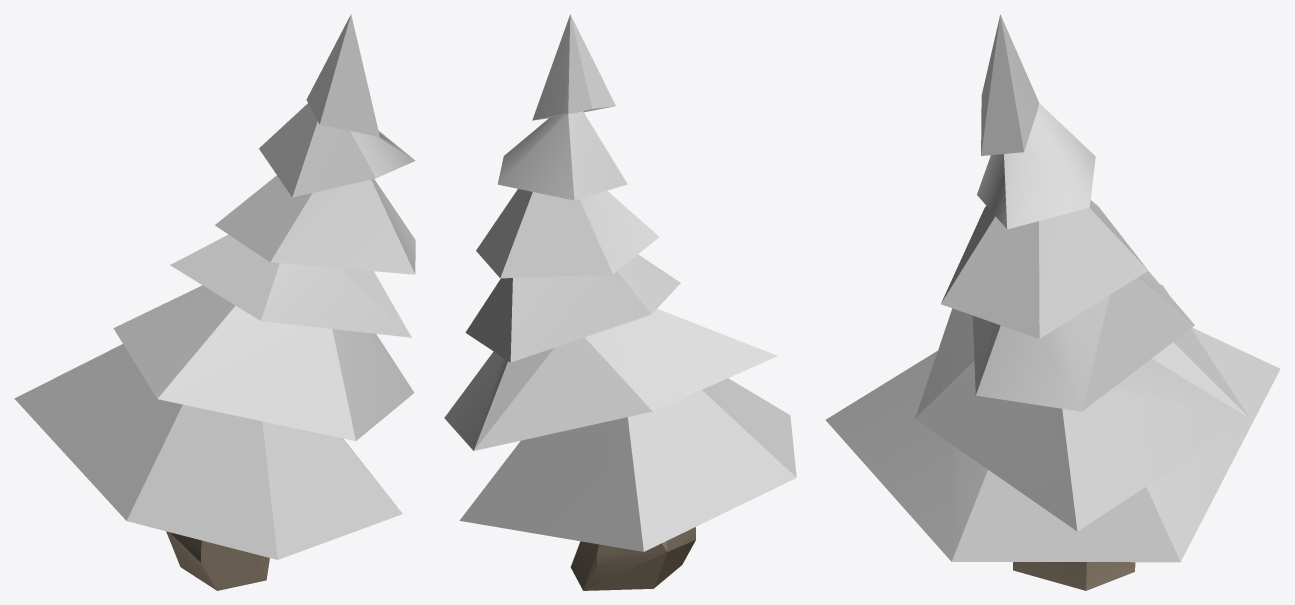
File: Vegetation_Tree_Pine_Snow_03.fbx
3 renders of one model, left to right at view 1: azimuth 30°, elevation 25°; view 2: azimuth 150°, elevation 25°; view 3: azimuth 270°, elevation 25°, orthographic. The views are drawn at different scales.
Parts seen in each view (by area): view 1: Vegetation_Tree_Pine_Snow_03; view 2: Vegetation_Tree_Pine_Snow_03; view 3: Vegetation_Tree_Pine_Snow_03.
Part boxes in pixels (<box>): Vegetation_Tree_Pine_Snow_03: <box>14,14,415,590</box>; Vegetation_Tree_Pine_Snow_03: <box>444,14,796,590</box>; Vegetation_Tree_Pine_Snow_03: <box>826,14,1280,590</box>.
Size of the model in its own units: 147 by 233 by 161.
